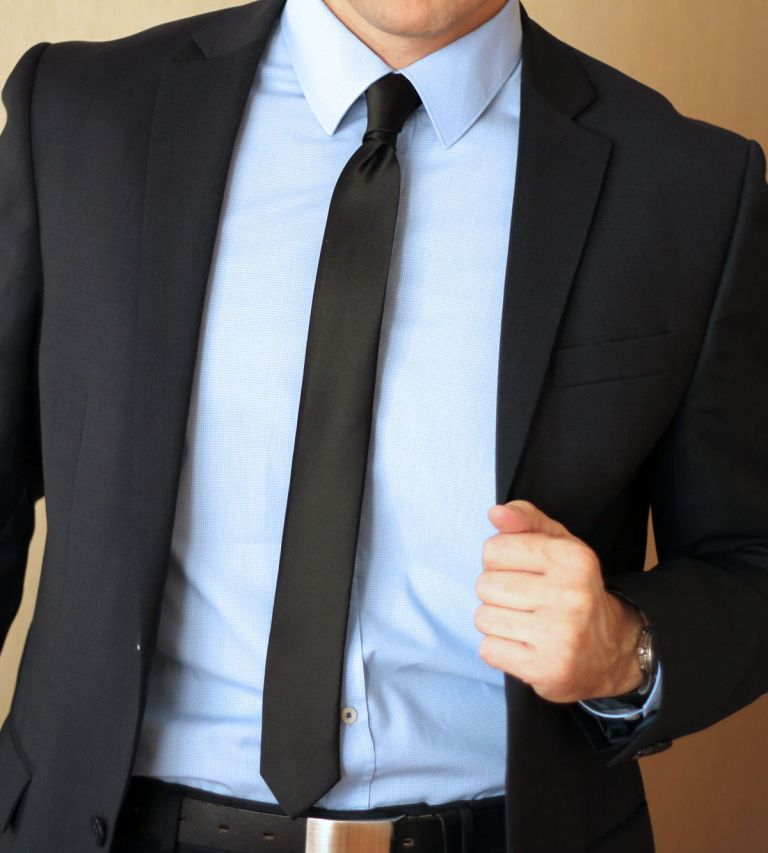tie: (252, 67, 443, 831)
